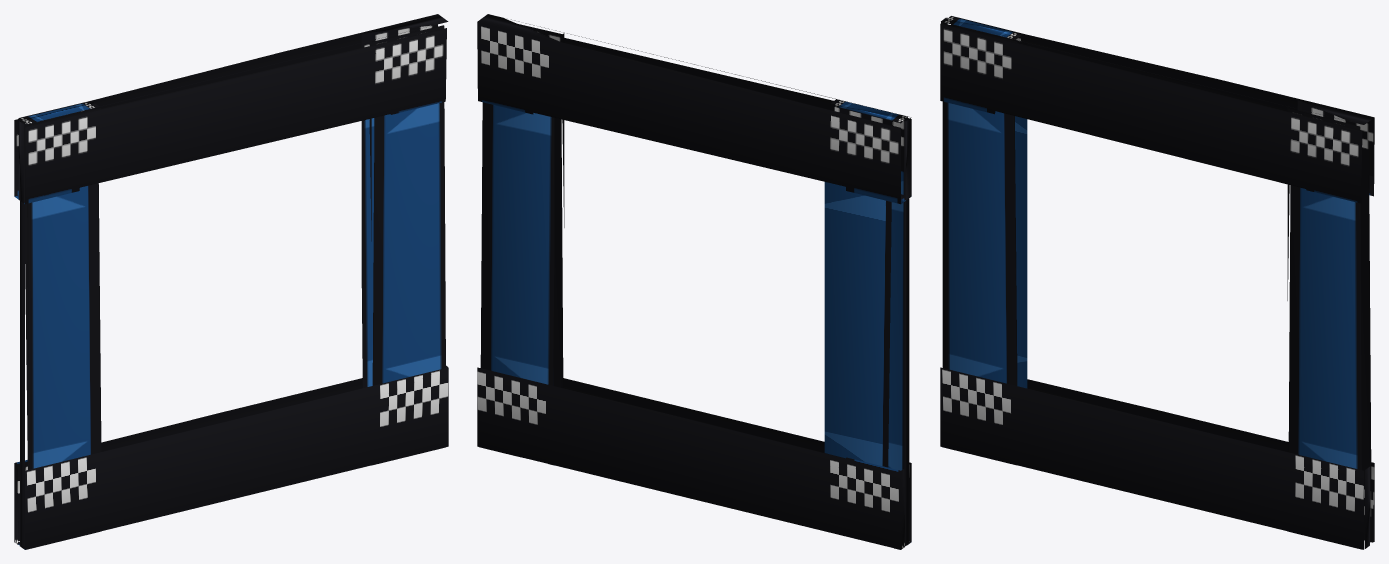
Rendered from gate2.dae.
The picture shows the model from 3 angles, left to right: view 1: azimuth 30°, elevation 25°; view 2: azimuth 150°, elevation 25°; view 3: azimuth 330°, elevation 25°; orthographic projection.
Parts seen in each view (by area): view 1: Cube.003, Cube.002, Cube.001, Cube; view 2: Cube.003, Cube.002, Cube, Cube.001; view 3: Cube.003, Cube.002, Cube, Cube.001.
Boxes of the visible parts, x1=… form: Cube.003: x1=14, y1=365, x2=448, y2=549; Cube.002: x1=14, y1=14, x2=448, y2=204; Cube.001: x1=361, y1=24, x2=445, y2=465; Cube: x1=18, y1=100, x2=101, y2=549; Cube.003: x1=477, y1=367, x2=911, y2=549; Cube.002: x1=477, y1=14, x2=911, y2=204; Cube: x1=824, y1=99, x2=909, y2=549; Cube.001: x1=479, y1=24, x2=564, y2=465; Cube.003: x1=940, y1=367, x2=1374, y2=549; Cube.002: x1=940, y1=17, x2=1374, y2=203; Cube: x1=942, y1=16, x2=1027, y2=465; Cube.001: x1=1287, y1=100, x2=1373, y2=549.
Size of the model in its own units: 3.92 by 0.17 by 3.76.
1 material, 1 textured.
